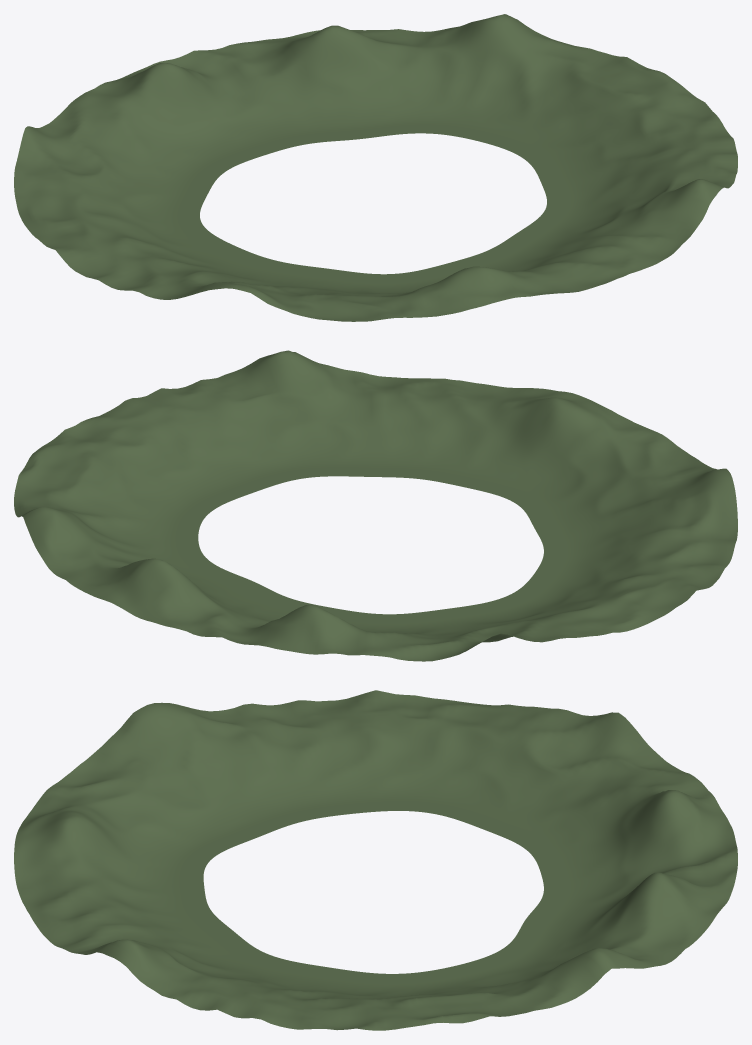
File: distant_mountains1.glb
The picture shows the model from 3 angles, top to bottom: view 1: azimuth 30°, elevation 25°; view 2: azimuth 150°, elevation 25°; view 3: azimuth 270°, elevation 25°; orthographic projection. The views are drawn at different scales.
Parts seen in each view (by area): view 1: Location3_DistantMountains; view 2: Location3_DistantMountains; view 3: Location3_DistantMountains.
Part boxes in pixels (left/top/right/bottom): Location3_DistantMountains: left=14, top=14, right=737, bottom=321; Location3_DistantMountains: left=14, top=350, right=737, bottom=661; Location3_DistantMountains: left=14, top=690, right=737, bottom=1030.
Size of the model in its own units: 1100 by 96.58 by 1000.
